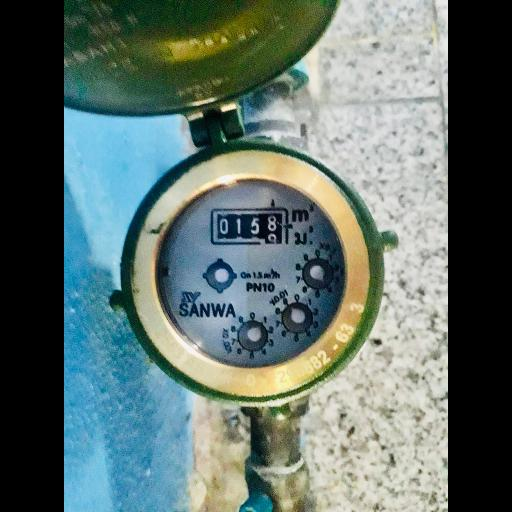0: (216, 214, 232, 239)
1: (232, 214, 246, 239)
5: (245, 213, 263, 239)
8: (262, 214, 282, 245)
border_water_meter_number: (211, 208, 289, 245)
